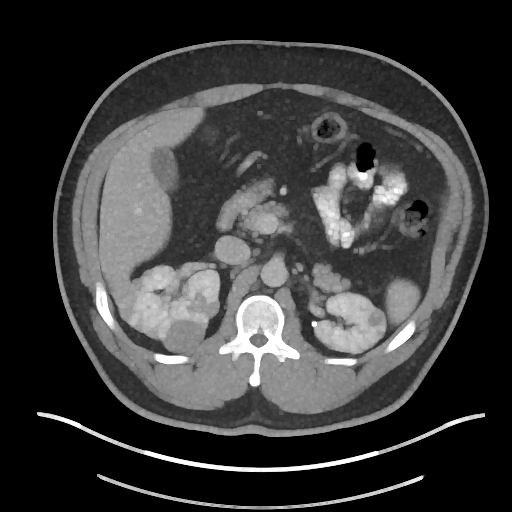Lesion: (160, 318, 205, 356), (366, 308, 385, 328)
